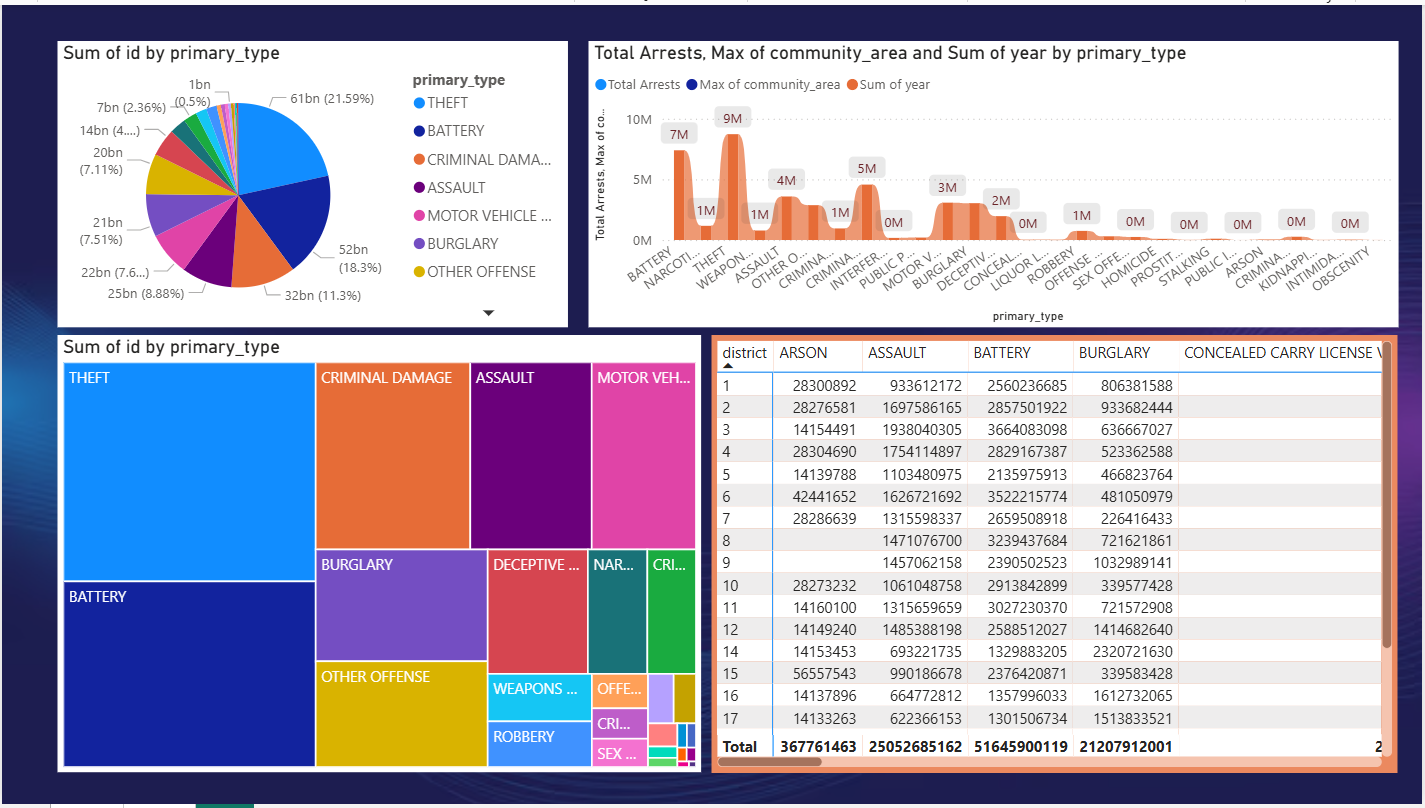

The page's visual inventory and layout, read from the dashboard file:
{"tool":"powerbi","page":{"name":"B","canvas":[1280,720],"ordinal":1},"visuals":[{"type":"pieChart","fields":{"Category":["ijzp-q8t2.primary_type","ijzp-q8t2.arrest"],"Y":["Sum(ijzp-q8t2.id)"]},"box":[50,32,460,258],"z":0},{"type":"pivotTable","fields":{"Rows":["ijzp-q8t2.district"],"Columns":["ijzp-q8t2.primary_type"],"Values":["Sum(ijzp-q8t2.id)"]},"box":[640,298,618,394],"z":1000},{"type":"ribbonChart","fields":{"Y":["Crime_Dataset.Total Arrests","Max(Crime_Dataset.community_area)","Sum(Crime_Dataset.year)"],"Category":["Crime_Dataset.primary_type"]},"box":[528,32,730,258],"z":2000},{"type":"treemap","fields":{"Values":["Sum(Crime_Dataset.id)"],"Group":["Crime_Dataset.primary_type"]},"box":[50,298,580,394],"z":3000}]}

Visuals, with their boxes in screenshot pixels (x1, y1, x2, y2), scaled from the page's 1280x720 canvas onto the 1425x808 screenshot:
pieChart - ijzp-q8t2.primary_type x ijzp-q8t2.arrest: x1=56, y1=36, x2=568, y2=325
pivotTable - ijzp-q8t2.district x ijzp-q8t2.primary_type: x1=712, y1=334, x2=1401, y2=777
ribbonChart - Crime_Dataset.Total Arrests x Max(Crime_Dataset.community_area): x1=588, y1=36, x2=1401, y2=325
treemap - Sum(Crime_Dataset.id) x Crime_Dataset.primary_type: x1=56, y1=334, x2=701, y2=777
